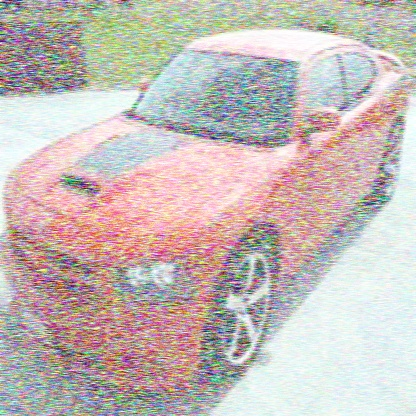Vehicle: (3, 28, 412, 396)
